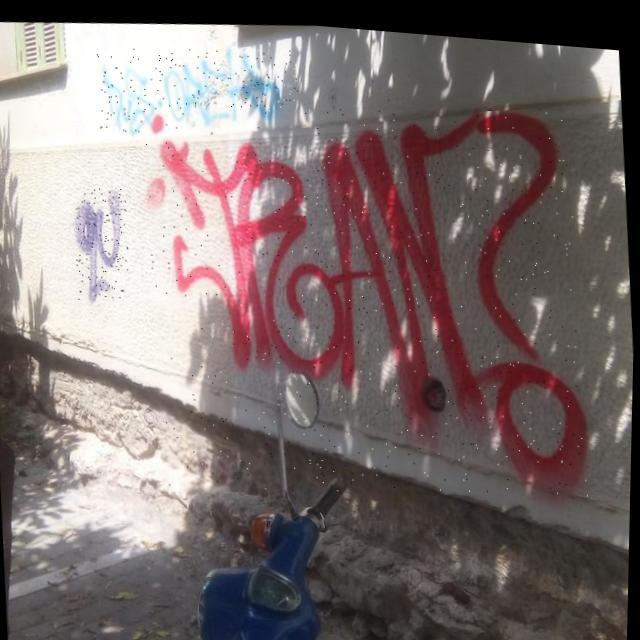-: (138, 74, 596, 516), (94, 33, 302, 144), (72, 183, 134, 303)
